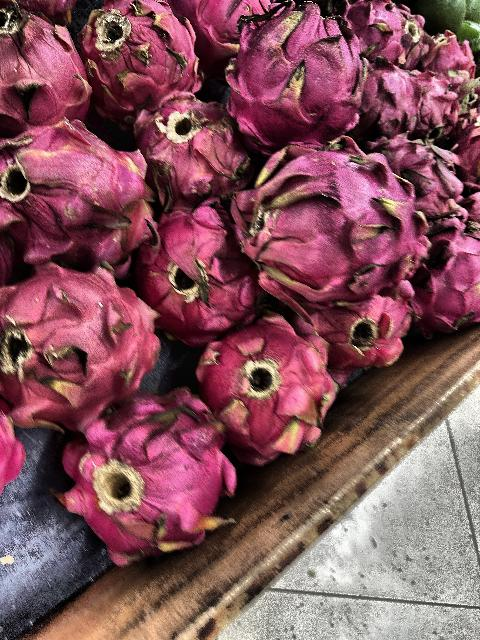buah-naga-matang: (238, 147, 426, 296), (0, 258, 168, 412), (69, 400, 240, 548), (6, 123, 152, 273), (128, 200, 262, 336), (198, 326, 334, 460), (232, 4, 362, 142), (129, 87, 253, 209), (85, 0, 207, 94), (1, 16, 92, 134), (300, 290, 420, 372), (376, 134, 468, 230), (416, 232, 480, 338), (359, 58, 423, 144), (359, 0, 435, 70)
